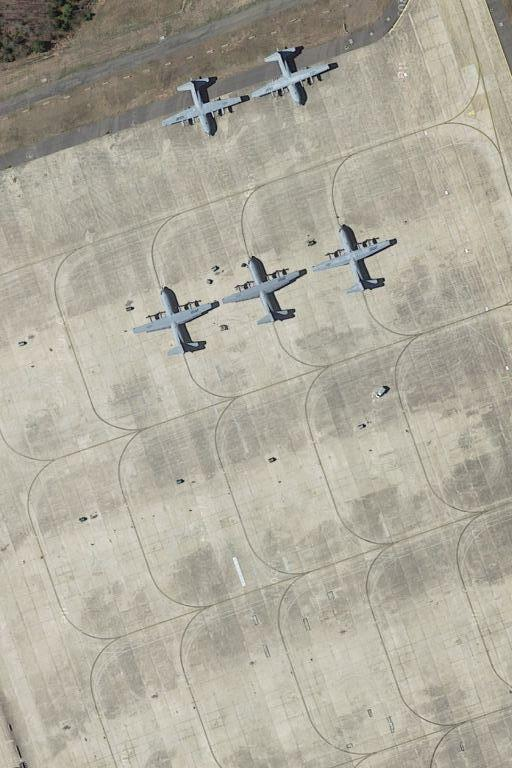C-130: (129, 284, 222, 365), (221, 252, 308, 335), (247, 42, 338, 111), (158, 70, 246, 141), (318, 225, 399, 297)
